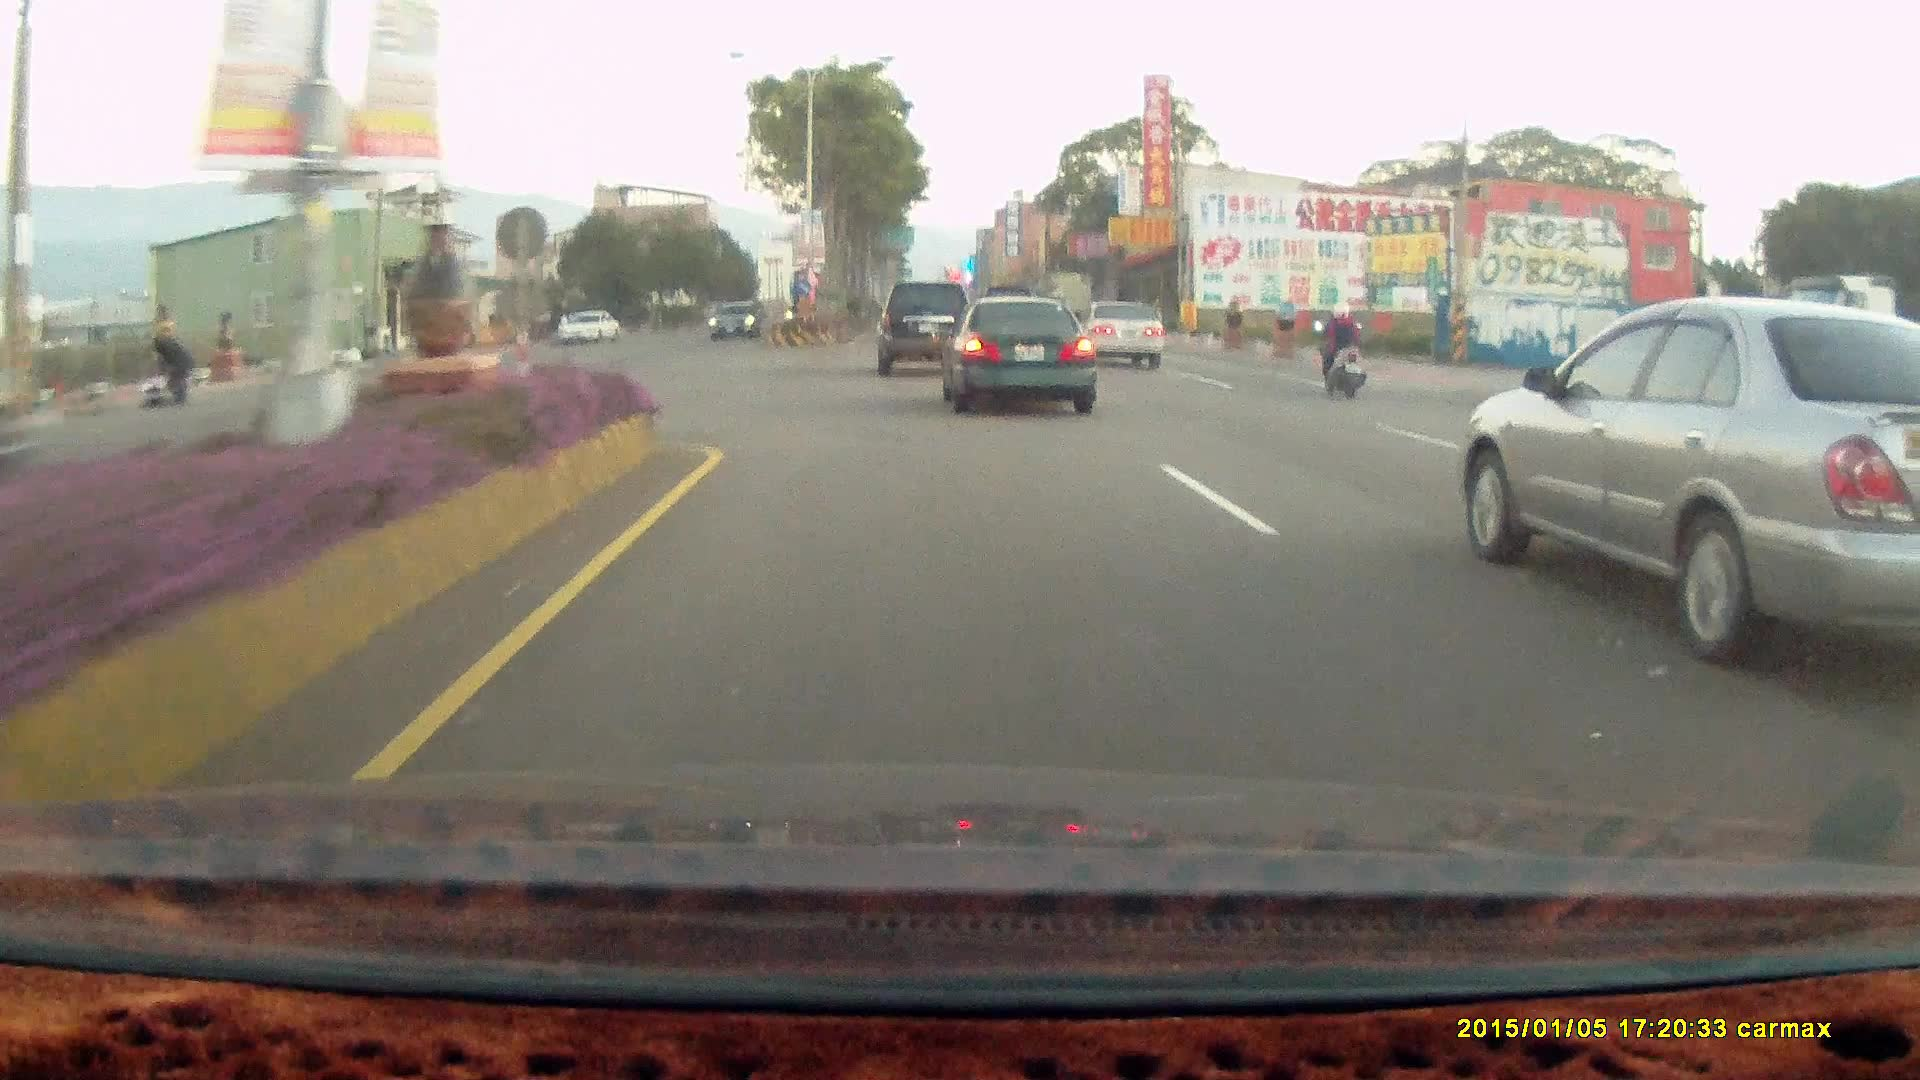pedestrian: (147, 329, 193, 404)
rider: (1303, 289, 1380, 410), (1310, 299, 1366, 397)
vehicle: (1453, 301, 1920, 670), (931, 291, 1091, 409), (949, 297, 1106, 416), (877, 278, 981, 378), (875, 281, 972, 376), (1078, 299, 1166, 373), (1078, 297, 1165, 367), (0, 391, 34, 529), (557, 309, 624, 348), (707, 302, 764, 344), (557, 309, 621, 343), (707, 300, 763, 339)
